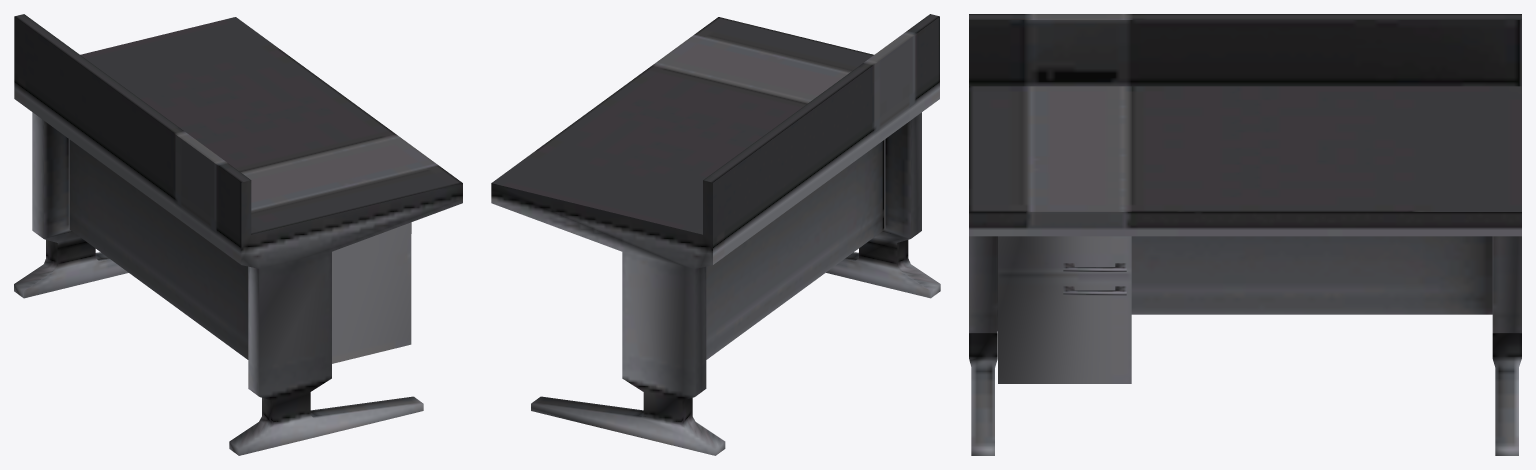
Rendered from Desk01_Straight.FBX.
3 renders of one model, left to right at view 1: azimuth 30°, elevation 25°; view 2: azimuth 150°, elevation 25°; view 3: azimuth 270°, elevation 25°, orthographic. The views are drawn at different scales.
Visible parts, largest first — view 1: Desk01_Straight; view 2: Desk01_Straight; view 3: Desk01_Straight.
Boxes of the visible parts, box(x1,y1,x2,y2) form: Desk01_Straight: box(14, 14, 462, 455); Desk01_Straight: box(491, 14, 940, 455); Desk01_Straight: box(969, 14, 1521, 455).
Bounding box in the file's own units: 0.85 × 0.9976 × 1.5.
